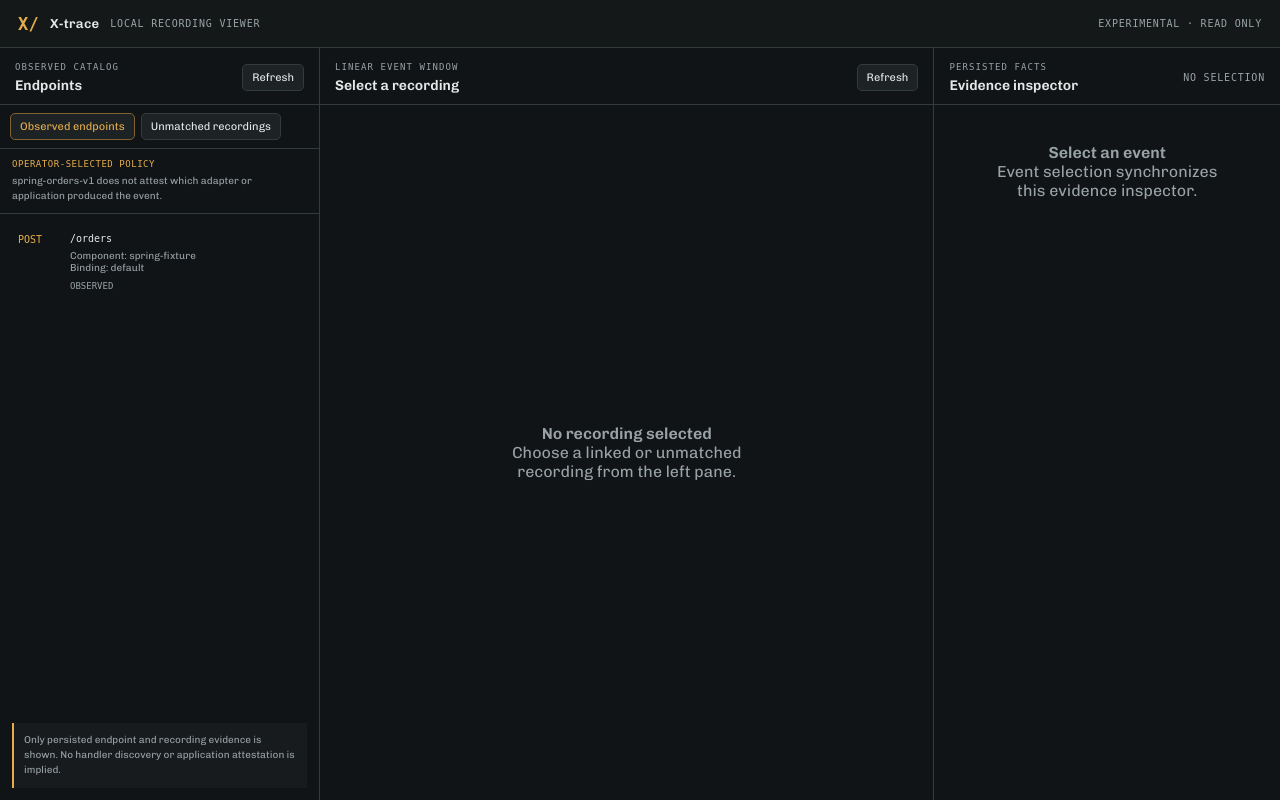
it: endpoint-first recording viewer › ignores an obsolete linked 401 and clears that lane after returning to endpoints
Click the button named "POST /orders Component: spring-fixture Binding: default observed": click(160, 262) [8, 221, 311, 303]
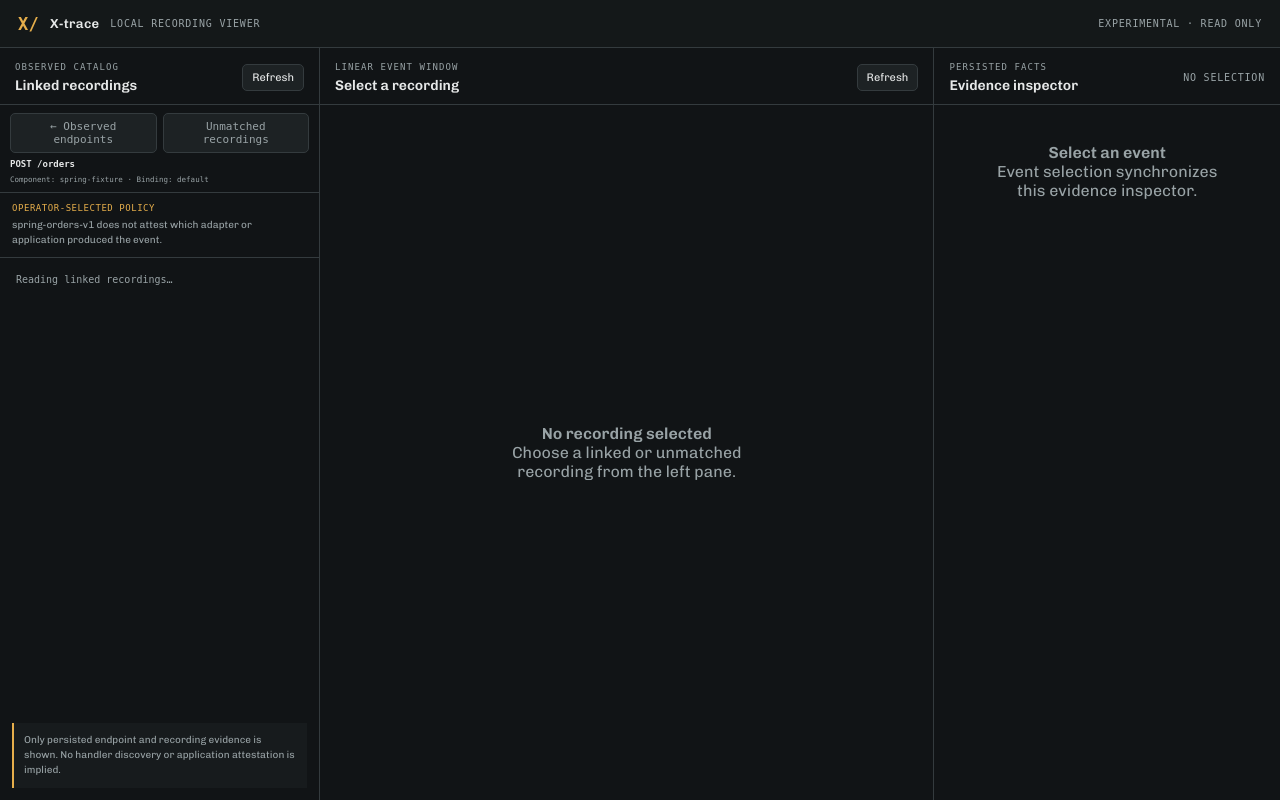
Click the button "← Observed endpoints": click(83, 133) [10, 113, 156, 153]
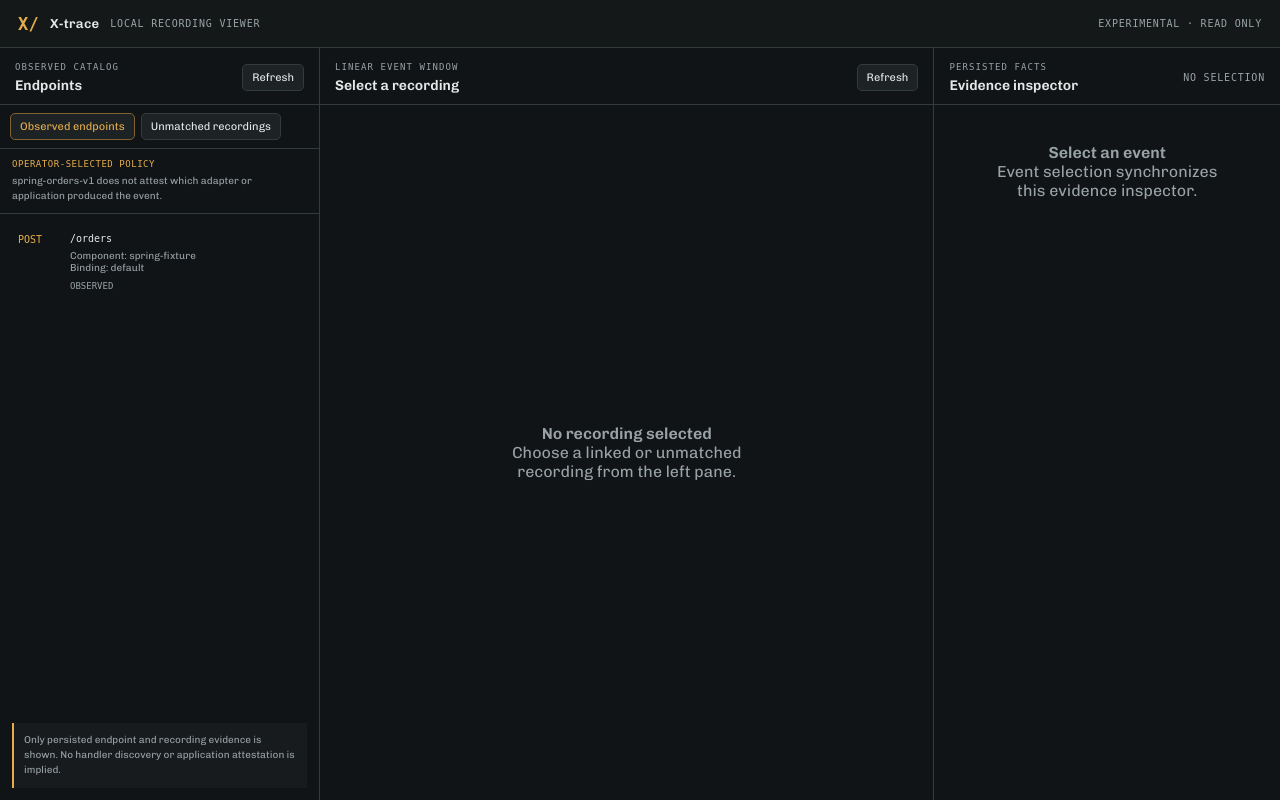
Check: the heading "Endpoints" is shown, box [15, 76, 82, 94]
